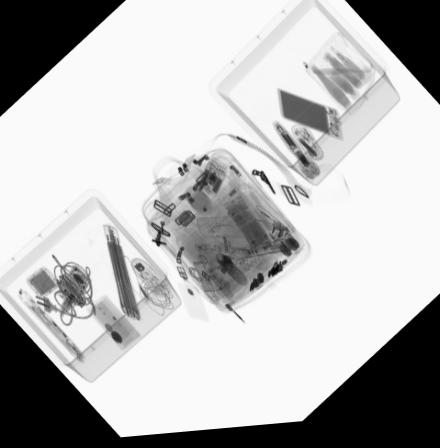Powerbank: (278, 93, 341, 147)
